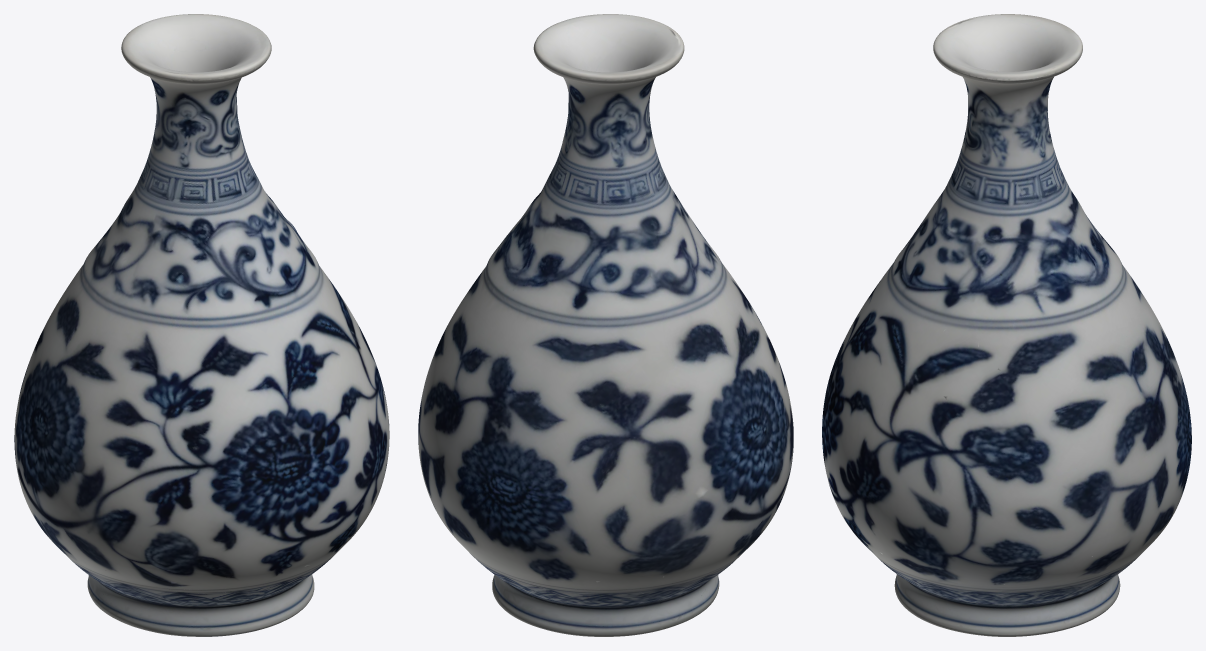
File: yuhuchun.glb
3 views of the same model, side by side, from view 1: azimuth 30°, elevation 25°; view 2: azimuth 150°, elevation 25°; view 3: azimuth 270°, elevation 25° (orthographic).
Visible parts, largest first — view 1: node_0; view 2: node_0; view 3: node_0.
Part boxes in pixels (x1=…): node_0: x1=14, y1=14, x2=389, y2=636; node_0: x1=418, y1=14, x2=793, y2=636; node_0: x1=822, y1=14, x2=1191, y2=636.
Bounding box in the file's own units: 0.7034 × 1.13 × 0.6953.
Materials: 1 (1 with a texture image).
